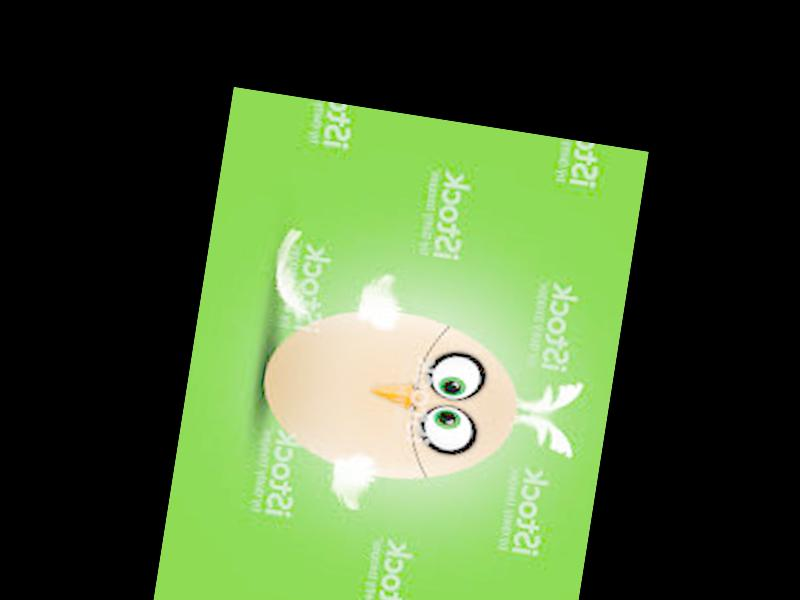Eggs: (250, 293, 529, 493)
